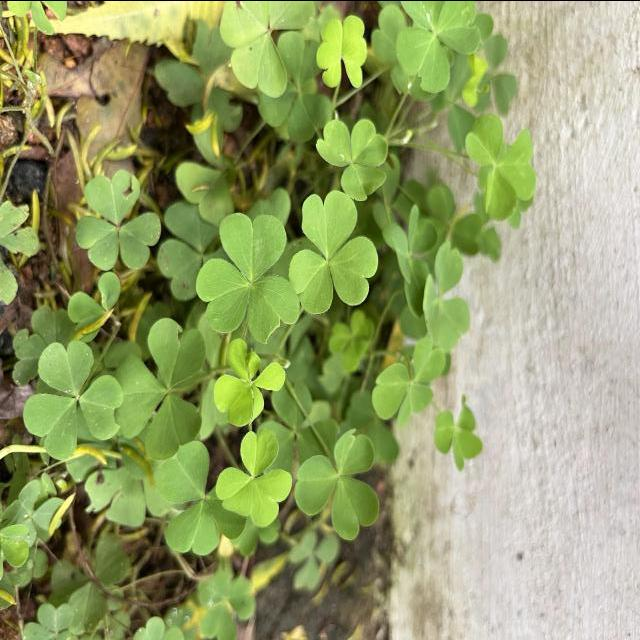Oxalis corniculata: (196, 210, 302, 344), (21, 334, 124, 462), (115, 316, 206, 460), (288, 189, 381, 316), (292, 424, 382, 544), (74, 166, 162, 274), (461, 106, 538, 224), (395, 0, 483, 95), (216, 427, 294, 528), (371, 337, 446, 428), (213, 338, 287, 427), (315, 118, 391, 204), (426, 242, 474, 342), (315, 11, 369, 92), (60, 384, 64, 428)
